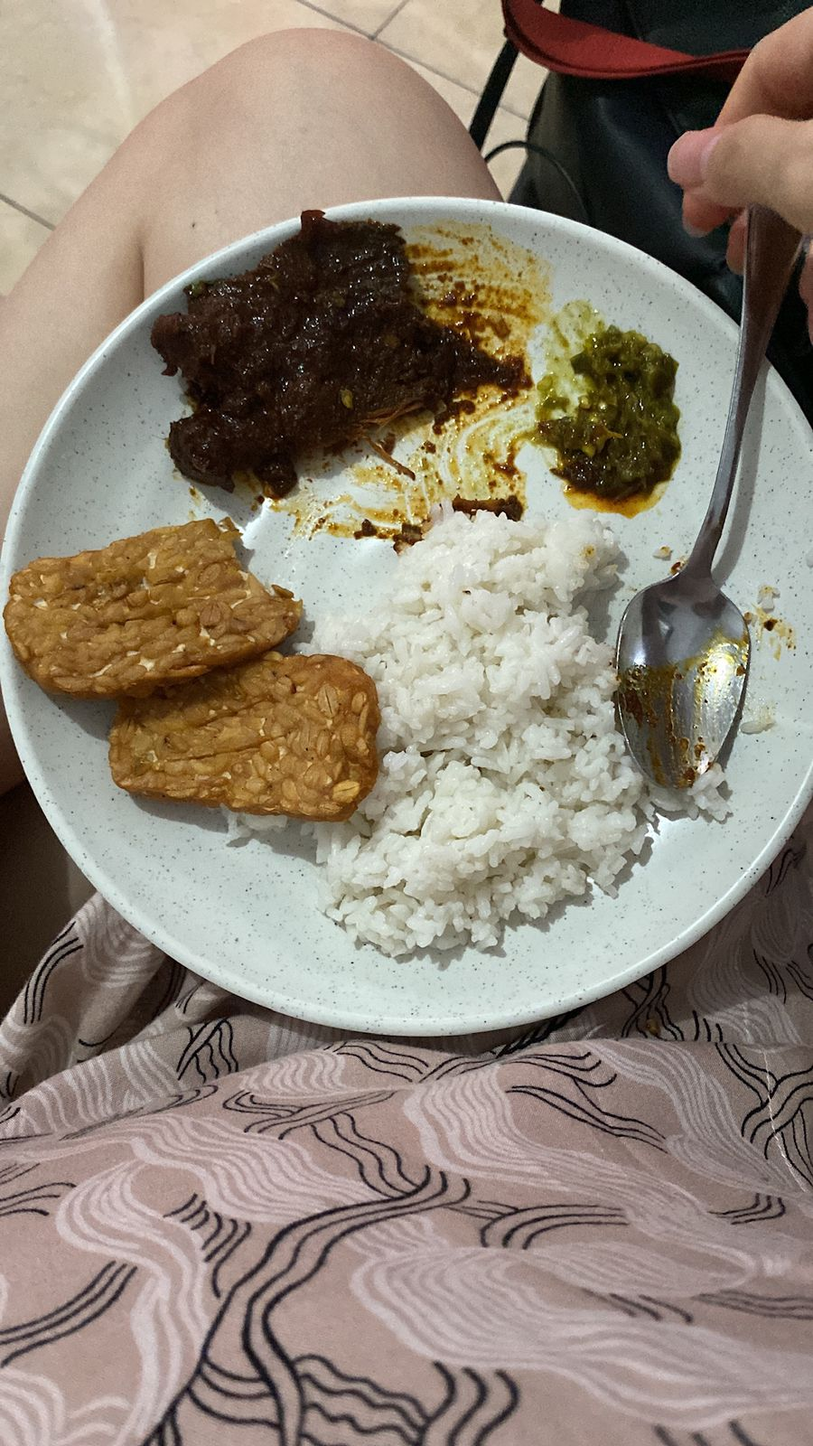daging: (159, 239, 425, 468)
kacang_legume: (0, 531, 345, 810)
makanan_berpati: (363, 584, 647, 951)
